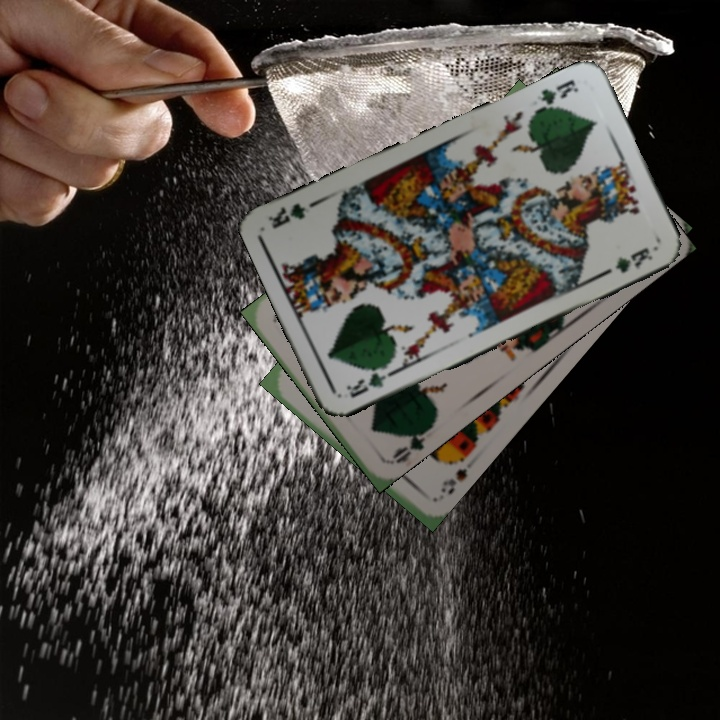GK: (342, 359, 395, 401), (530, 75, 581, 118)
GO: (387, 423, 435, 467)
S9: (436, 448, 471, 498)
